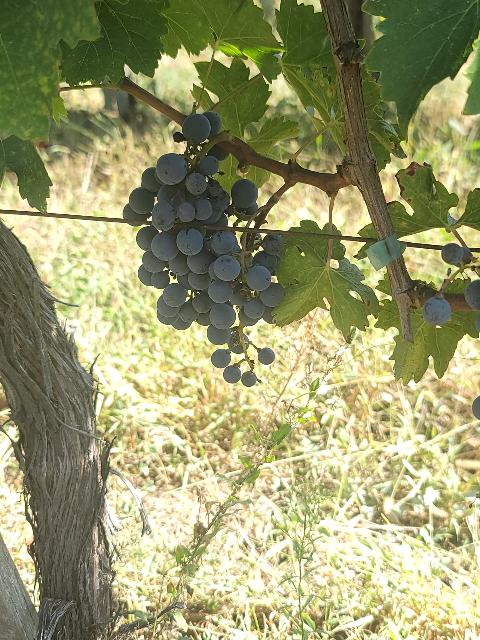grapes: (122, 132, 230, 330), (191, 229, 285, 386)
